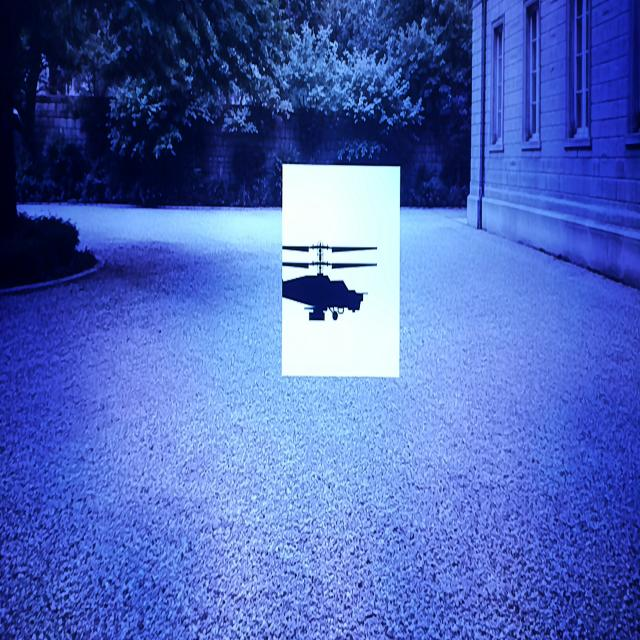Ka-52 Enemy: (283, 243, 376, 320)
